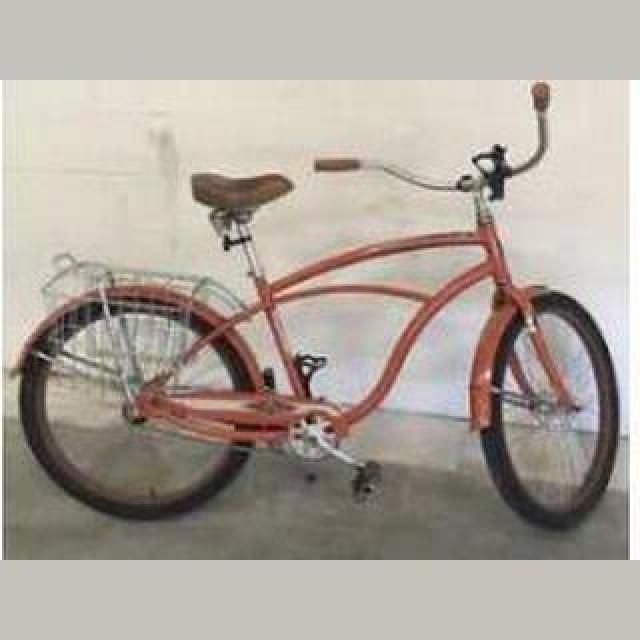Person: (13, 80, 621, 536)
